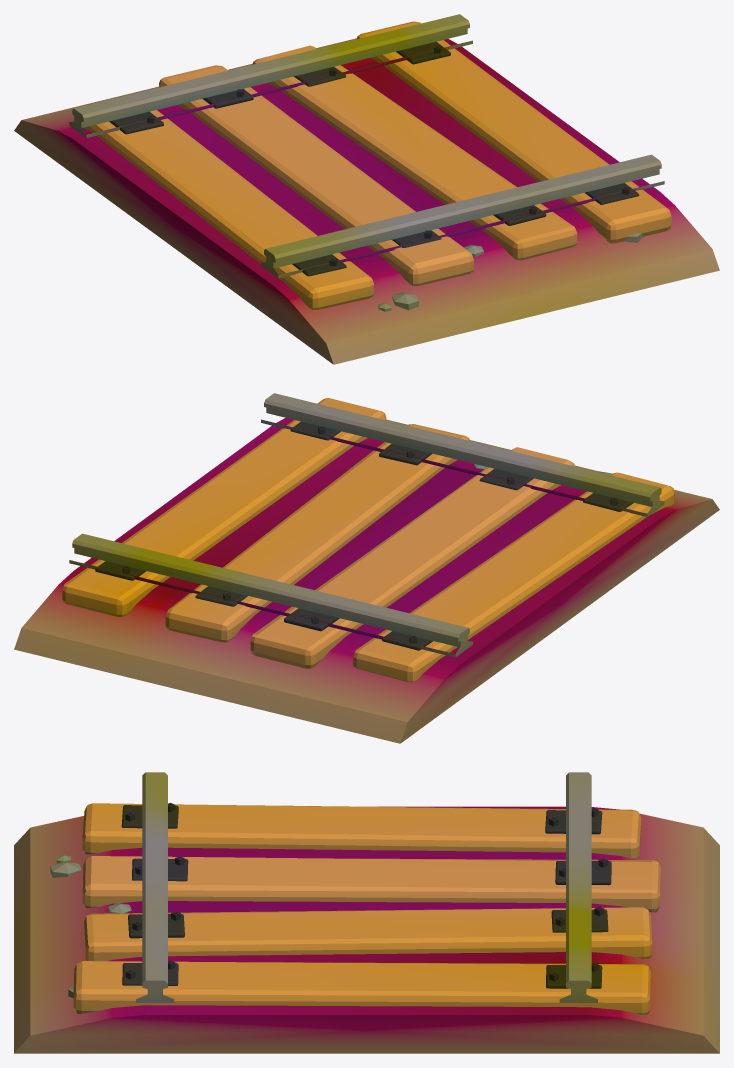
File: Track_Straight_3m.glb
3 renders of one model, top to bottom at view 1: azimuth 30°, elevation 25°; view 2: azimuth 150°, elevation 25°; view 3: azimuth 270°, elevation 25°, orthographic. The views are drawn at different scales.
Parts seen in each view (by area): view 1: Track_Straight_3m; view 2: Track_Straight_3m; view 3: Track_Straight_3m.
Boxes of the visible parts, x1,y1,x2,y2 form: Track_Straight_3m: (14,14,719,364); Track_Straight_3m: (14,393,719,743); Track_Straight_3m: (14,772,719,1053).
Size of the model in its own units: 3 by 0.49 by 4.3.
